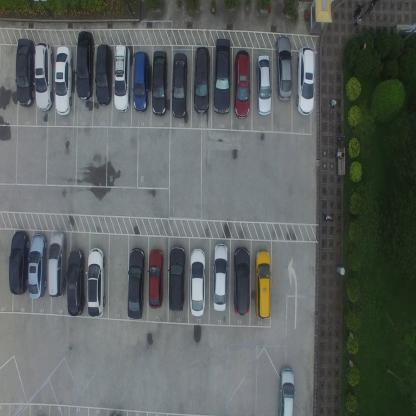car: (126, 245, 146, 320), (86, 244, 106, 319), (212, 36, 231, 114), (8, 228, 30, 294), (232, 244, 251, 318), (75, 30, 95, 100), (54, 45, 73, 117), (47, 230, 67, 298), (254, 247, 272, 322), (66, 246, 85, 317), (15, 37, 34, 107), (296, 46, 315, 116), (28, 232, 47, 301), (211, 241, 229, 313), (34, 40, 52, 110), (193, 46, 211, 115), (168, 243, 186, 312), (150, 48, 168, 116), (114, 44, 132, 112), (189, 246, 206, 318), (233, 50, 250, 120), (274, 36, 292, 102), (171, 51, 188, 119), (254, 54, 272, 116), (146, 248, 164, 310), (133, 50, 150, 112), (96, 42, 112, 106), (277, 365, 295, 415)
